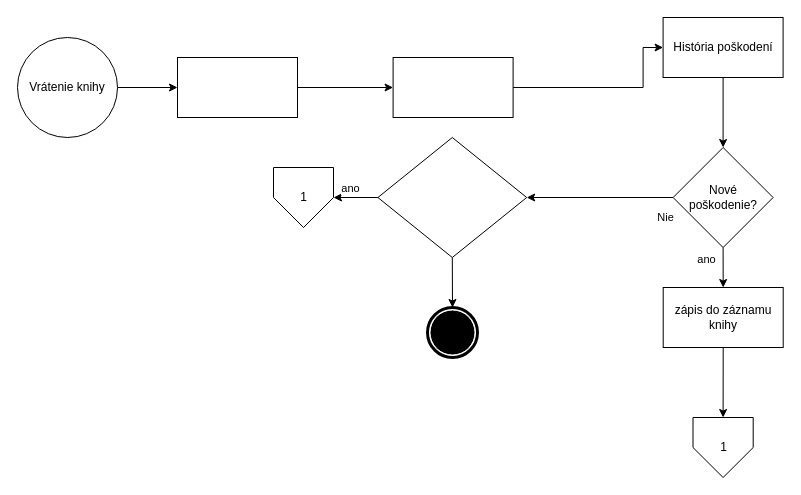
Image size: 801x495. Some labels were removed from this diagram. Each missing label, with the centre of its shape:
"Kniha je odovzdaná po termíne" goes at [452,197].
"Vyhľadanie knihy v databáze" goes at [237,87].
"Záznam o vrátení knihy" goes at [452,87].
